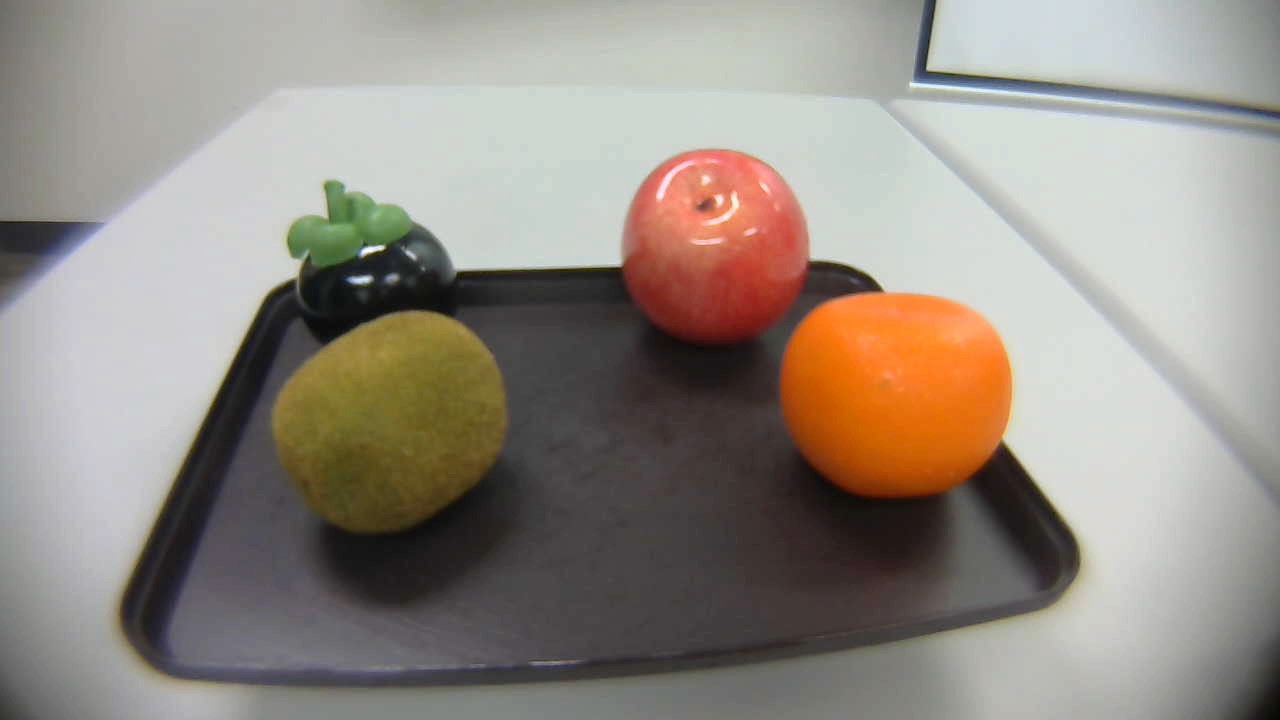kiwi fruit: (268, 311, 518, 538)
mangosteen: (278, 179, 468, 340)
orange: (772, 289, 1022, 518)
red apple: (620, 138, 817, 359)
